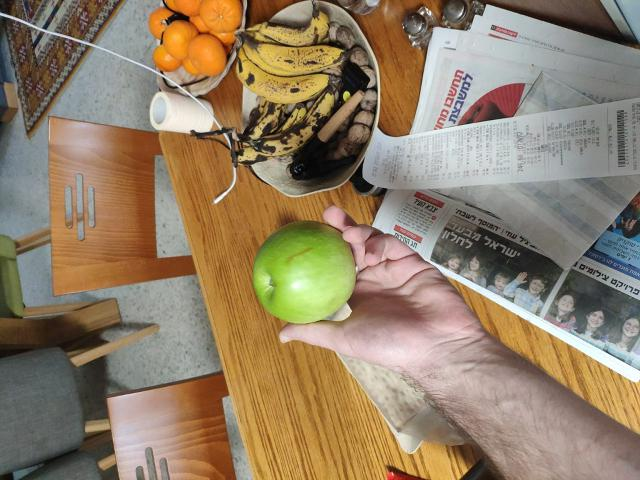apple: (252, 230, 359, 318)
